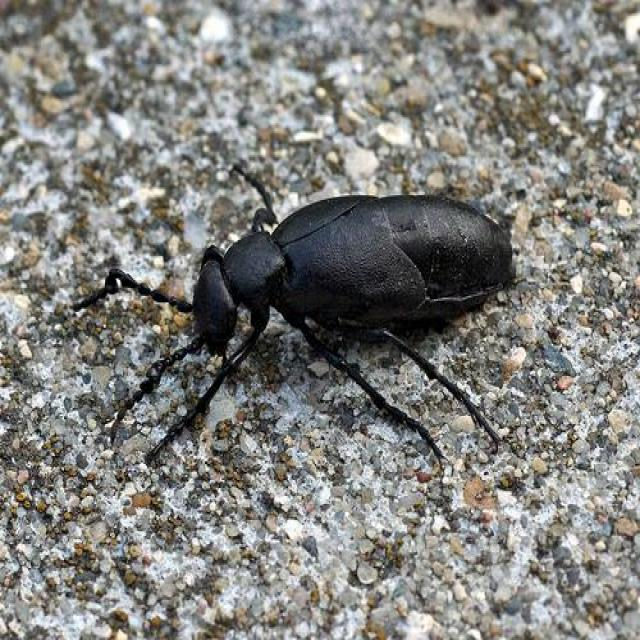BlisterBeetle-Adult-: (125, 167, 548, 477)
